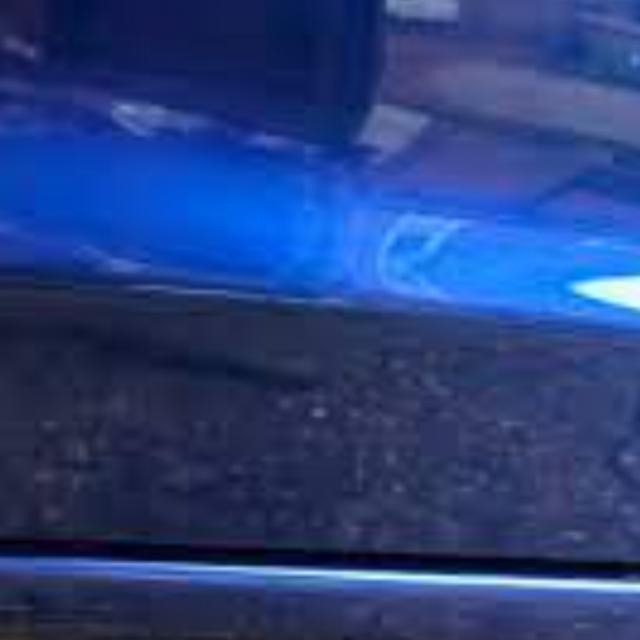dents: (340, 177, 594, 349)
